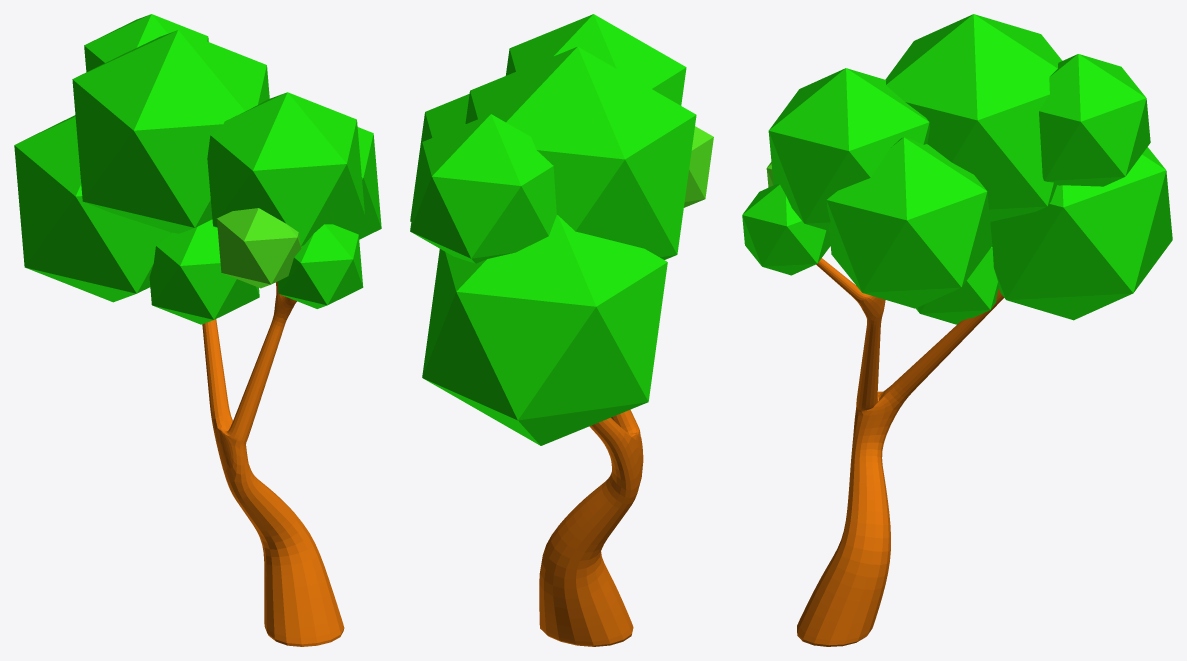
The model's file is tree1.fbx.
3 views of the same model, side by side, from view 1: azimuth 30°, elevation 25°; view 2: azimuth 150°, elevation 25°; view 3: azimuth 270°, elevation 25° (orthographic). The views are drawn at different scales.
Parts seen in each view (by area): view 1: Icosphere.018, Icosphere.017, Cube.024, Icosphere.020, Icosphere.016, Icosphere.014, Icosphere.021, Icosphere.015, Icosphere.019; view 2: Icosphere.020, Icosphere.018, Icosphere.015, Cube.024, Icosphere.017, Icosphere.014, Icosphere.019; view 3: Icosphere.018, Icosphere.019, Icosphere.020, Cube.024, Icosphere.017, Icosphere.015, Icosphere.021, Icosphere.016.
Boxes of the visible parts, x1,y1,x2,y2 form: Icosphere.018: (72,30,269,233); Icosphere.017: (207,92,364,246); Cube.024: (202,281,344,646); Icosphere.020: (14,115,170,302); Icosphere.016: (149,219,259,324); Icosphere.014: (216,208,301,288); Icosphere.021: (277,224,363,308); Icosphere.015: (84,14,208,72); Icosphere.019: (341,127,381,239); Icosphere.020: (422,215,667,445); Icosphere.018: (465,46,696,259); Icosphere.015: (410,114,556,263); Cube.024: (539,409,643,646); Icosphere.017: (505,14,686,105); Icosphere.014: (684,126,713,207); Icosphere.019: (410,94,469,221); Icosphere.018: (885,14,1062,221); Icosphere.019: (826,137,992,308); Icosphere.020: (990,147,1172,320); Cube.024: (797,258,1003,646); Icosphere.017: (768,68,929,230); Icosphere.015: (1039,54,1150,186); Icosphere.021: (742,184,830,275); Icosphere.016: (916,247,998,324).
Size of the model in its own units: 544 by 1091 by 724.
